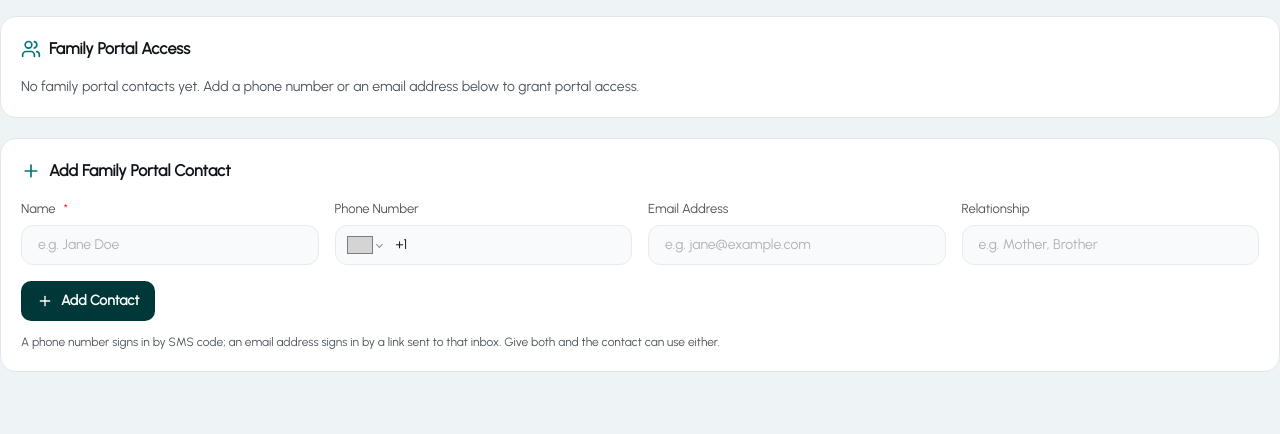
FamilyPortalTab › lower-cases the email, because sign-in matches on it
The image size is (1280, 434).
Type "Jane Doe" into the field with placeholder "e.g. Jane Doe" at (170, 244), box top-left (21, 224), bottom-right (318, 264)
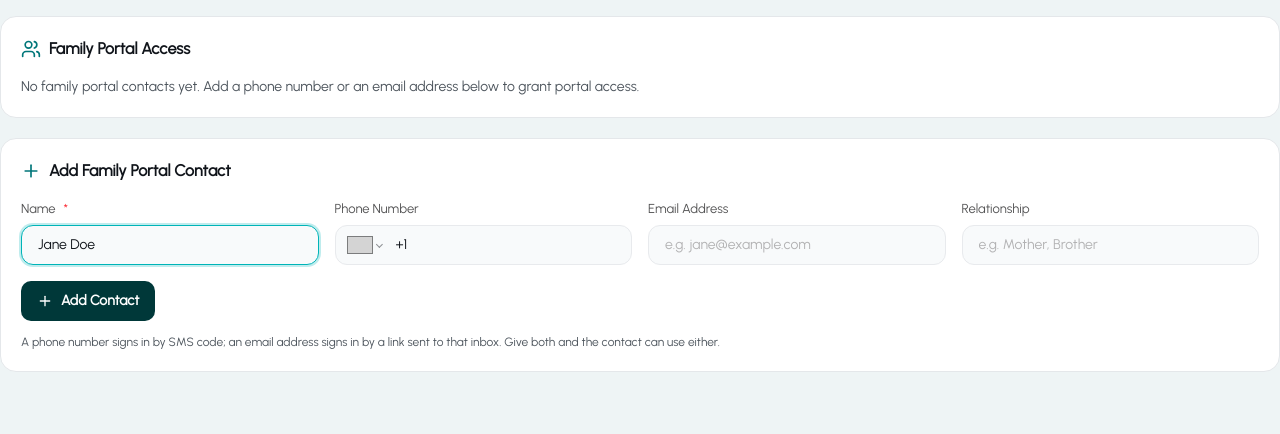
Type "MiXeD@Case.COM" into the field with placeholder "e.g. jane@example.com" at (797, 244), box top-left (648, 224), bottom-right (946, 264)
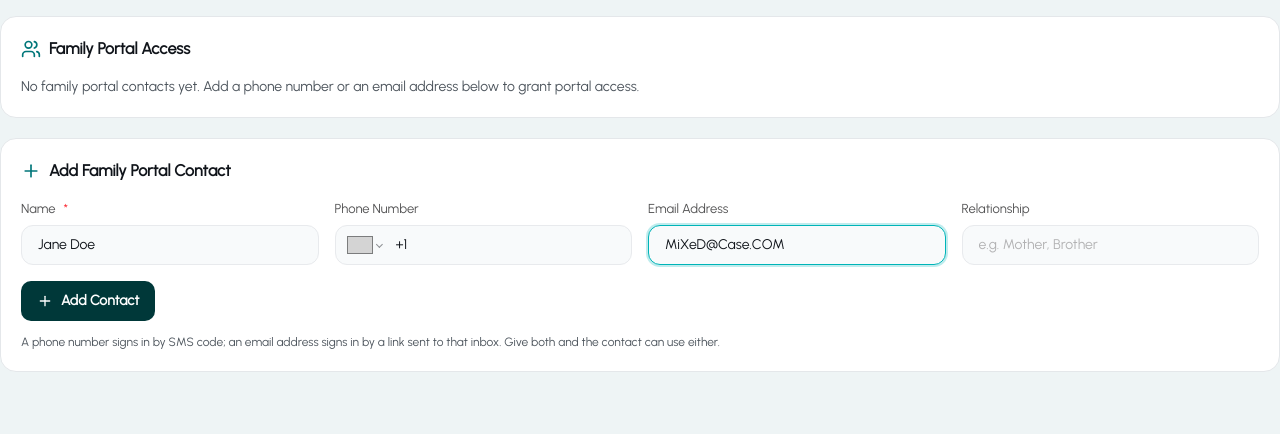
Click the button "Add Contact" at (88, 300), box top-left (21, 280), bottom-right (155, 320)
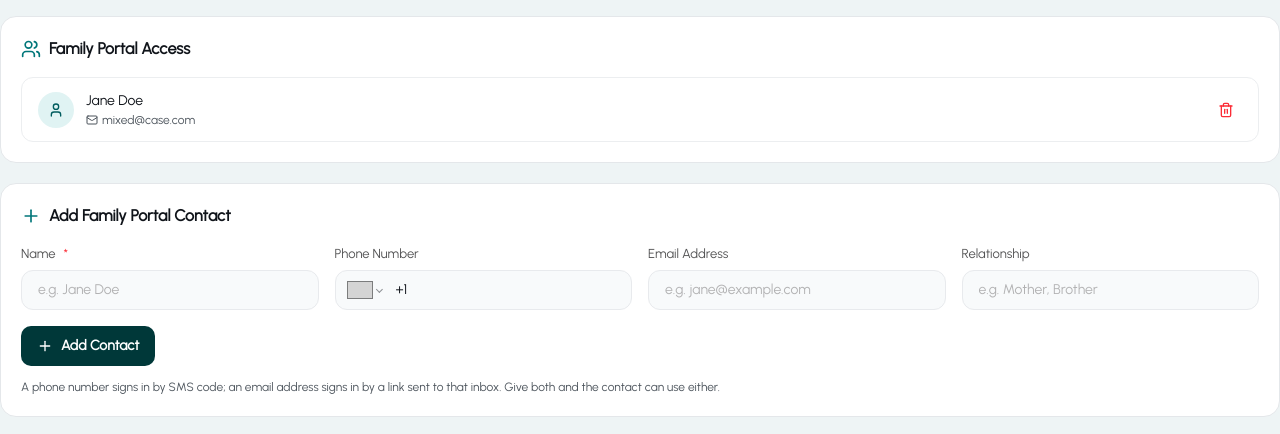
Check: the element showing "mixed@case.com" is shown, box top-left (86, 111), bottom-right (195, 129)
